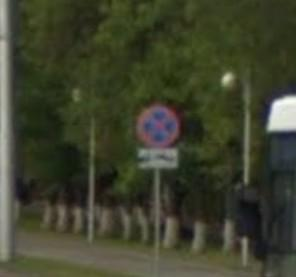No Parking: (135, 105, 182, 149)
